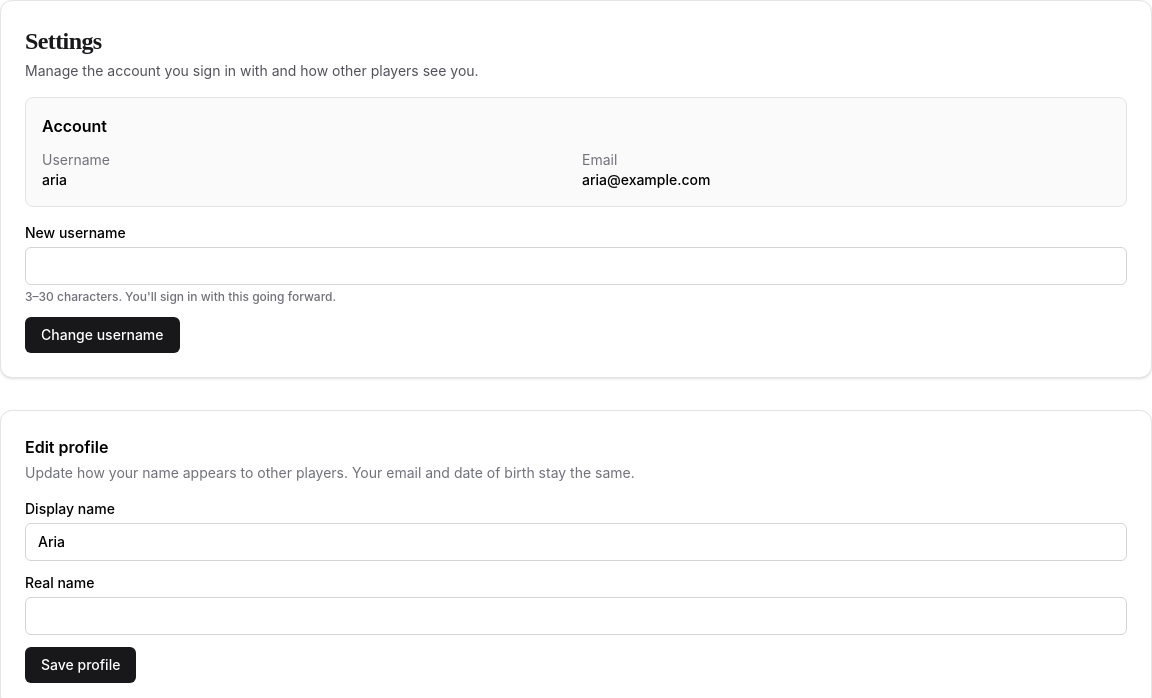
SettingsPage › updates the profile details and refreshes the session
Replace the text in the field labelled "Display name" with "Aria the Brave" at (576, 542), box x1=25 y1=523 x2=1127 y2=561
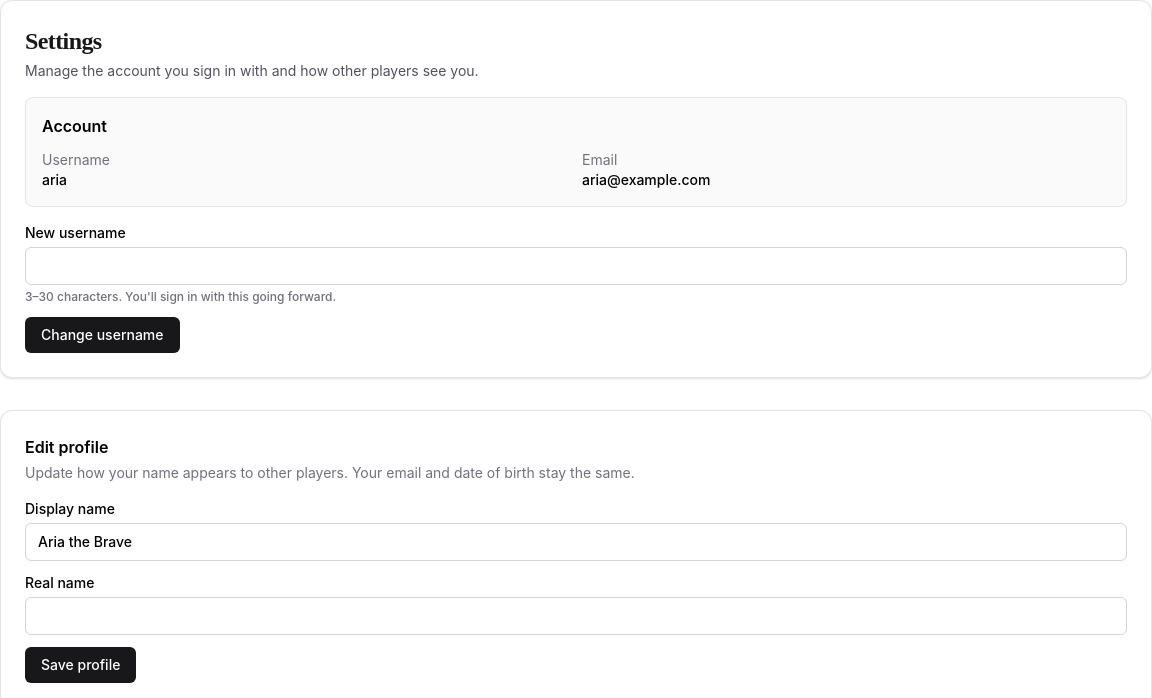
Type "Aria Ashton" into the field labelled "Real name".
click(576, 616); type("Aria Ashton")  # box x1=25 y1=597 x2=1127 y2=635
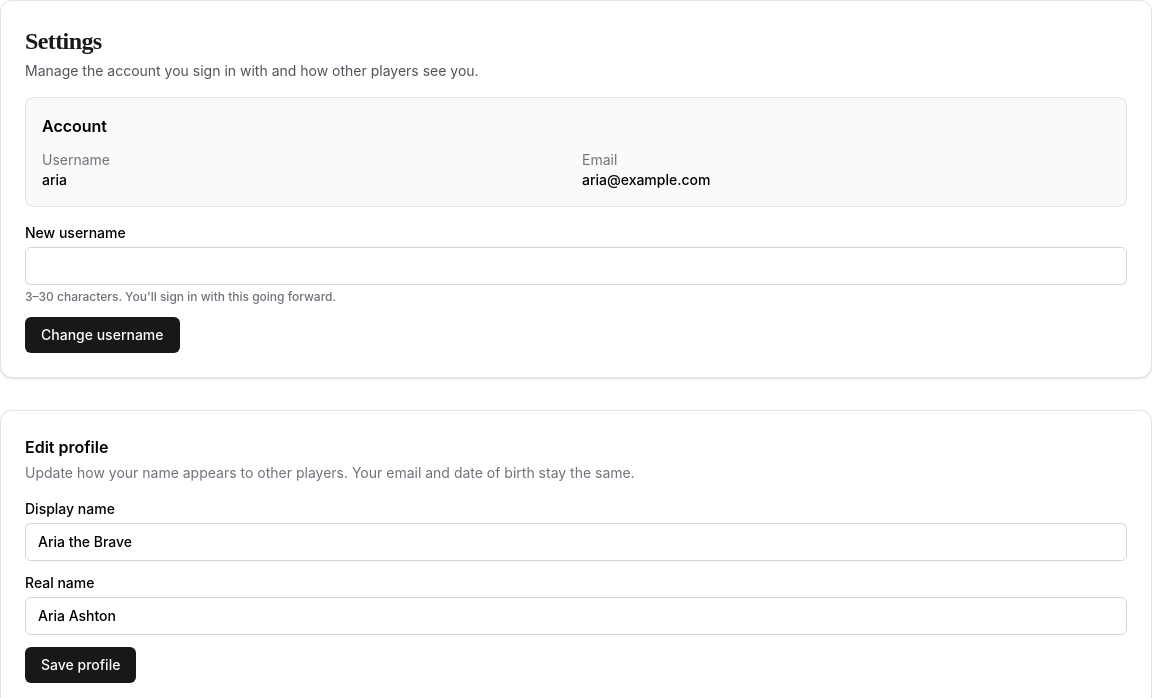
Click the button "Save profile".
click(81, 665)  # box x1=25 y1=647 x2=136 y2=683
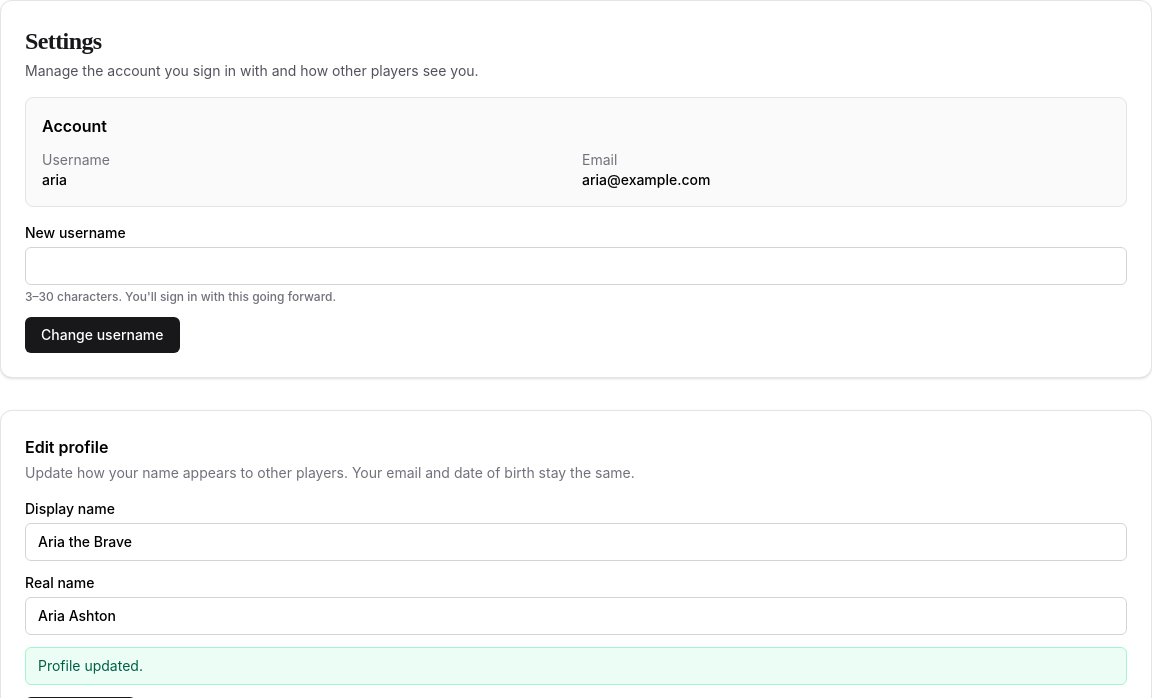
Now the text "Profile updated." is shown, box x1=25 y1=647 x2=1127 y2=685
